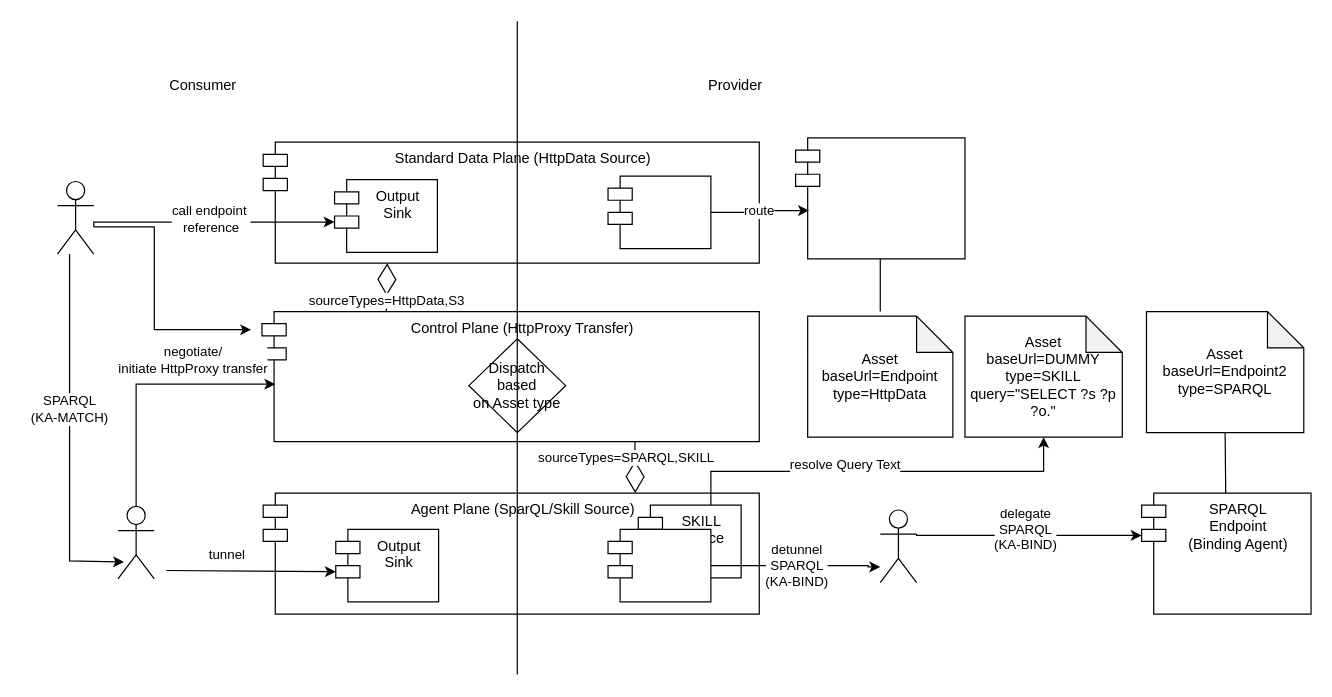
Some shapes in this 1332 by 697 pixel diagram are drawn without their labels. Each missing label, with the centre of its shape:
"Actor/Application" belongs at point (75, 217).
"Agent (Controller)" belongs at point (135, 542).
"Agent (Engine)" belongs at point (898, 546).
"Http Endpoint" belongs at point (879, 198).
"HttpData Source" belongs at point (659, 212).
"SPARQL Source" belongs at point (659, 565).
